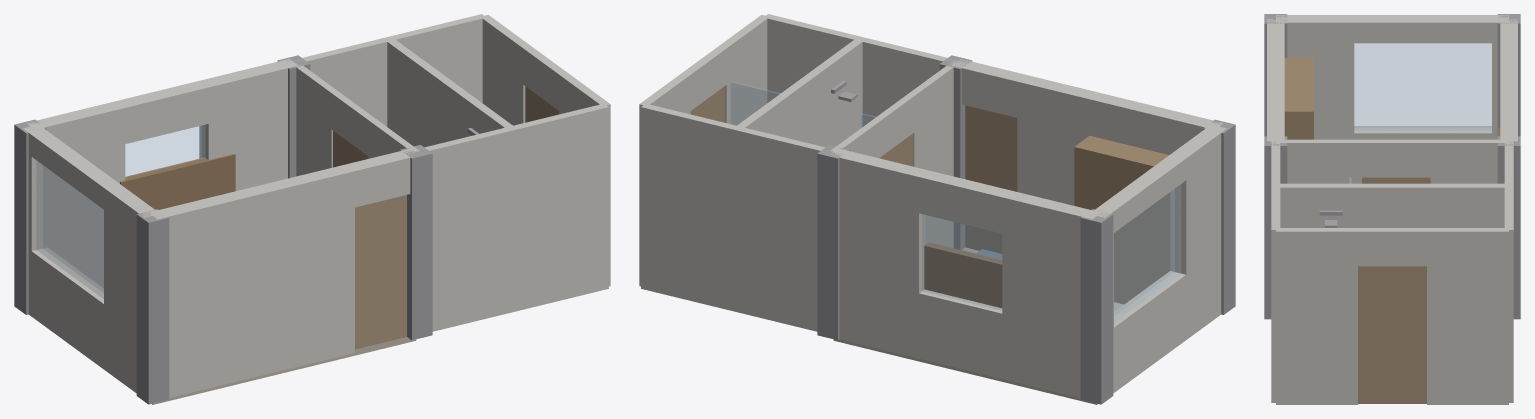
The model's file is bedroom_toilet.glb.
The picture shows the model from 3 angles, left to right: view 1: azimuth 30°, elevation 25°; view 2: azimuth 150°, elevation 25°; view 3: azimuth 270°, elevation 25°; orthographic projection. The views are drawn at different scales.
Size of the model in its own units: 6.74 by 2.6 by 3.35.
